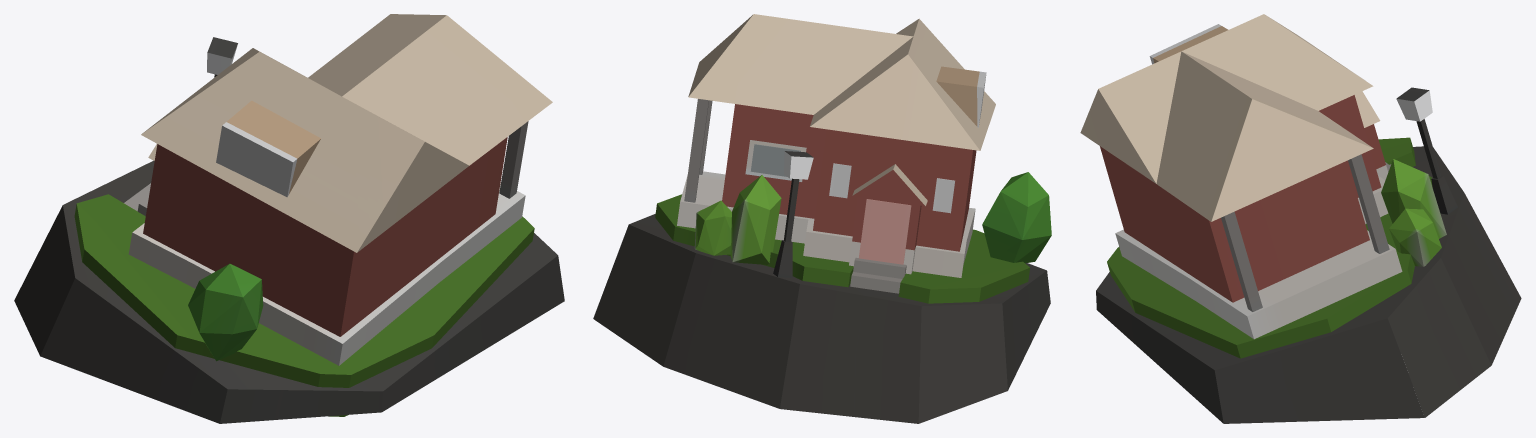
File: city_lv03_B.fbx
3 renders of one model, left to right at view 1: azimuth 30°, elevation 25°; view 2: azimuth 150°, elevation 25°; view 3: azimuth 270°, elevation 25°, orthographic. The views are drawn at different scales.
Visible parts, largest first — view 1: city_lv03_B; view 2: city_lv03_B; view 3: city_lv03_B.
Part boxes in pixels (<box>): city_lv03_B: <box>14,14,564,423</box>; city_lv03_B: <box>593,14,1051,423</box>; city_lv03_B: <box>1080,14,1521,423</box>.
Size of the model in its own units: 3540 by 2331 by 3234.
